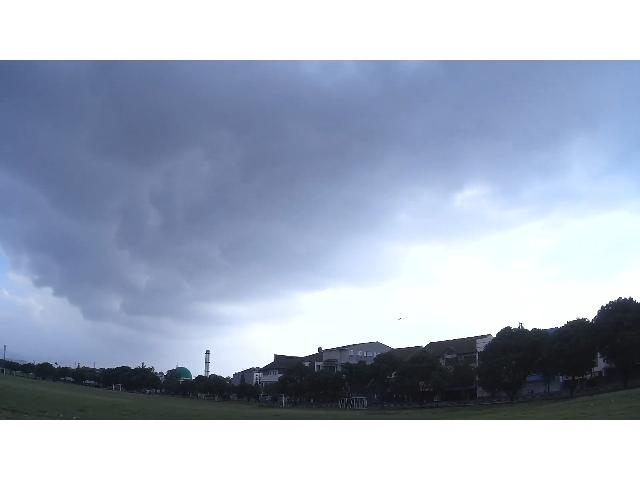Anti-Drone: (396, 314, 412, 328)
